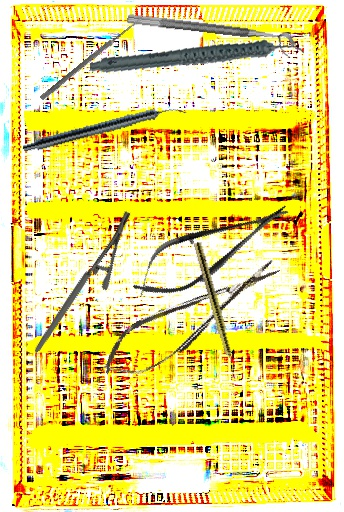Fixation Ring: (125, 12, 297, 59)
Handpiece: (88, 15, 306, 104), (20, 99, 188, 158), (191, 241, 241, 381)
Micro Scissor: (91, 249, 292, 389), (121, 187, 301, 312)
Needle Holder: (0, 208, 164, 354)
Surgical Spoon: (39, 14, 145, 102)
